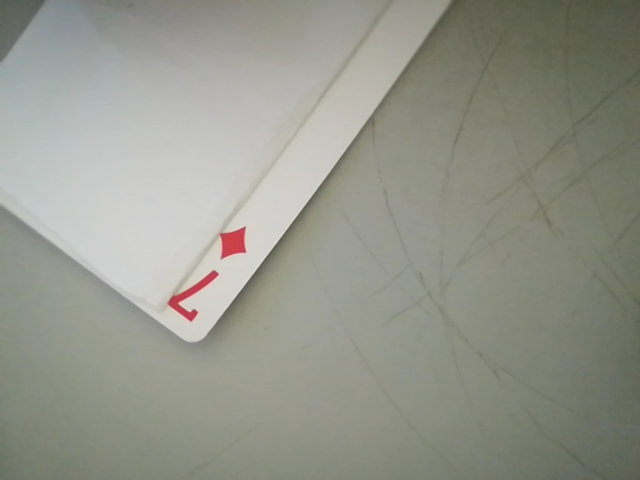fk 7: (158, 218, 263, 334)
